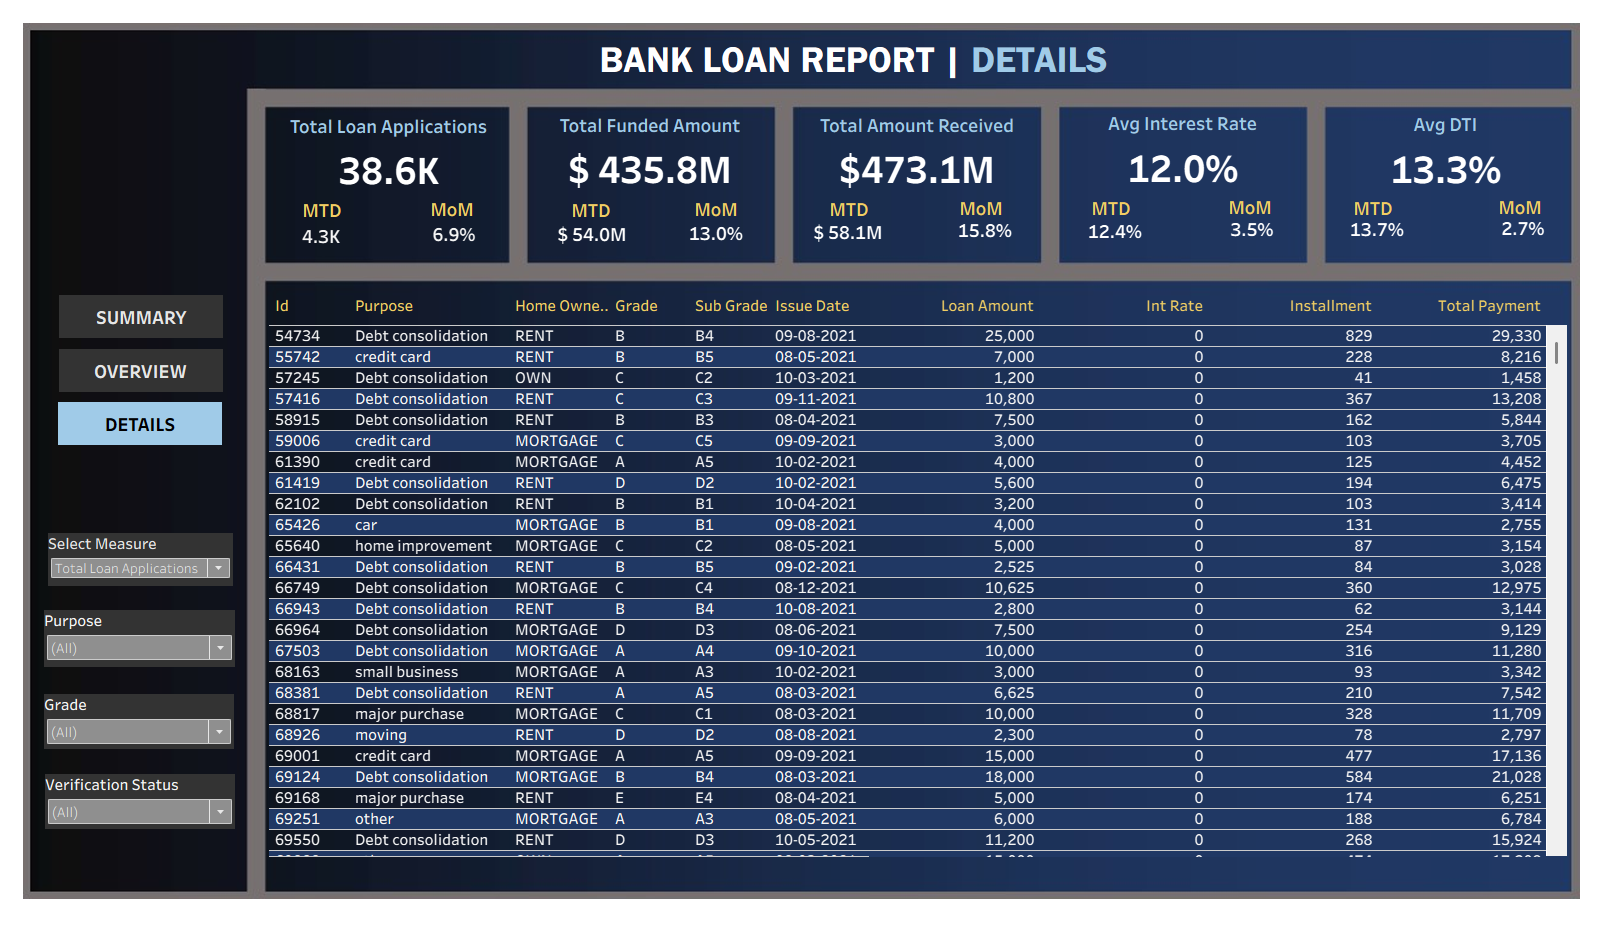

This screenshot's page, from the dashboard's own definition file:
{"tool":"tableau","page":{"name":"DETAILS","canvas":[1600,900],"ordinal":0},"visuals":[{"type":"image","param":"C:/Users/Ashutosh patil/Downloads/Tableau Background 3.jpg","box":[8,8,1584,884]},{"type":"text","box":[571,22,561,52]},{"type":"image","param":"C:/Users/ASHUTO~1/AppData/Local/Temp/TableauTemp/1ljy3j515t14ks12ctpar1f0utq3/Sh","box":[52,78,170,171]},{"type":"worksheet","title":"Avg Interest Rate","mark":"Automatic","box":[1058,95,245,81]},{"type":"worksheet","title":"Avg DTI","mark":"Automatic","box":[1321,96,245,82]},{"type":"worksheet","title":"Total Funded Amount","mark":"Automatic","box":[525,97,246,80]},{"type":"worksheet","title":"Total Amount Received","mark":"Automatic","box":[792,97,246,80]},{"type":"worksheet","title":"Total Loan Applications","mark":"Automatic","box":[267,98,239,79]},{"type":"text","box":[1223,187,50,18]},{"type":"text","box":[1493,187,50,18]},{"type":"text","box":[954,188,50,18]},{"type":"text","box":[1084,188,50,18]},{"type":"text","box":[1346,188,50,18]},{"type":"text","box":[425,189,50,18]},{"type":"text","box":[689,189,50,18]},{"type":"text","box":[822,189,50,18]},{"type":"text","box":[295,190,50,18]},{"type":"text","box":[564,190,50,18]},{"type":"worksheet","title":"MoM Avg DTI","mark":"Automatic","box":[1493,197,56,39]},{"type":"worksheet","title":"MTD Total Amount Received","mark":"Automatic","box":[805,199,81,43]},{"type":"worksheet","title":"MoM Total Amount Received","mark":"Automatic","box":[947,200,72,38]},{"type":"worksheet","title":"MTD Avg DTI","mark":"Automatic","box":[1341,200,68,35]},{"type":"worksheet","title":"MoM Avg Interest Rate","mark":"Automatic","box":[1215,201,69,34]},{"type":"worksheet","title":"MTD Total Funded Amount","mark":"Automatic","box":[545,202,90,42]},{"type":"worksheet","title":"MoM Total Fubded Amount","mark":"Automatic","box":[674,202,79,40]},{"type":"worksheet","title":"MTD Avg Interest Rate","mark":"Automatic","box":[1073,202,79,36]},{"type":"worksheet","title":"MoM Total Loan Applications","mark":"Automatic","box":[422,205,60,36]},{"type":"worksheet","title":"MTD Total Loan Applications","mark":"Automatic","box":[293,206,52,38]},{"type":"worksheet","title":"Details Tab","mark":"Automatic","rows":["id","purpose","home_ownership","grade","sub_grade","issue_date"],"box":[267,274,1298,572]},{"type":"dashboard-object","box":[57,284,164,43]},{"type":"dashboard-object","box":[57,338,164,43]},{"type":"dashboard-object","box":[56,391,164,43]},{"type":"parameter","param":"[Parameters].[Parameter 0288399514267680]","box":[46,522,185,53]},{"type":"filter","title":"Avg DTI","param":"[federated.1rtcsyt0h957pv0znsryh1tsff6r].[none:purpose:nk]","box":[42,599,191,57]},{"type":"filter","title":"Avg DTI","param":"[federated.1rtcsyt0h957pv0znsryh1tsff6r].[none:grade:nk]","box":[42,683,190,55]},{"type":"filter","title":"Avg DTI","param":"[federated.1rtcsyt0h957pv0znsryh1tsff6r].[none:verification_status:nk]","box":[43,763,190,55]}]}

Visuals, with their boxes on the page's 1600x900 design canvas (x1, y1, x2, y2). These are canvas units, not pixel positions in the 1597x930 screenshot, which may show the page scaled, cropped or inside an application window:
image: {"x1": 8, "y1": 8, "x2": 1592, "y2": 892}
text: {"x1": 571, "y1": 22, "x2": 1132, "y2": 74}
image: {"x1": 52, "y1": 78, "x2": 222, "y2": 249}
"Avg Interest Rate" worksheet: {"x1": 1058, "y1": 95, "x2": 1303, "y2": 176}
"Avg DTI" worksheet: {"x1": 1321, "y1": 96, "x2": 1566, "y2": 178}
"Total Funded Amount" worksheet: {"x1": 525, "y1": 97, "x2": 771, "y2": 177}
"Total Amount Received" worksheet: {"x1": 792, "y1": 97, "x2": 1038, "y2": 177}
"Total Loan Applications" worksheet: {"x1": 267, "y1": 98, "x2": 506, "y2": 177}
text: {"x1": 1223, "y1": 187, "x2": 1273, "y2": 205}
text: {"x1": 1493, "y1": 187, "x2": 1543, "y2": 205}
text: {"x1": 954, "y1": 188, "x2": 1004, "y2": 206}
text: {"x1": 1084, "y1": 188, "x2": 1134, "y2": 206}
text: {"x1": 1346, "y1": 188, "x2": 1396, "y2": 206}
text: {"x1": 425, "y1": 189, "x2": 475, "y2": 207}
text: {"x1": 689, "y1": 189, "x2": 739, "y2": 207}
text: {"x1": 822, "y1": 189, "x2": 872, "y2": 207}
text: {"x1": 295, "y1": 190, "x2": 345, "y2": 208}
text: {"x1": 564, "y1": 190, "x2": 614, "y2": 208}
"MoM Avg DTI" worksheet: {"x1": 1493, "y1": 197, "x2": 1549, "y2": 236}
"MTD Total Amount Received" worksheet: {"x1": 805, "y1": 199, "x2": 886, "y2": 242}
"MoM Total Amount Received" worksheet: {"x1": 947, "y1": 200, "x2": 1019, "y2": 238}
"MTD Avg DTI" worksheet: {"x1": 1341, "y1": 200, "x2": 1409, "y2": 235}
"MoM Avg Interest Rate" worksheet: {"x1": 1215, "y1": 201, "x2": 1284, "y2": 235}
"MTD Total Funded Amount" worksheet: {"x1": 545, "y1": 202, "x2": 635, "y2": 244}
"MoM Total Fubded Amount" worksheet: {"x1": 674, "y1": 202, "x2": 753, "y2": 242}
"MTD Avg Interest Rate" worksheet: {"x1": 1073, "y1": 202, "x2": 1152, "y2": 238}
"MoM Total Loan Applications" worksheet: {"x1": 422, "y1": 205, "x2": 482, "y2": 241}
"MTD Total Loan Applications" worksheet: {"x1": 293, "y1": 206, "x2": 345, "y2": 244}
"Details Tab" worksheet: {"x1": 267, "y1": 274, "x2": 1565, "y2": 846}
dashboard-object: {"x1": 57, "y1": 284, "x2": 221, "y2": 327}
dashboard-object: {"x1": 57, "y1": 338, "x2": 221, "y2": 381}
dashboard-object: {"x1": 56, "y1": 391, "x2": 220, "y2": 434}
parameter: {"x1": 46, "y1": 522, "x2": 231, "y2": 575}
"Avg DTI" filter: {"x1": 42, "y1": 599, "x2": 233, "y2": 656}
"Avg DTI" filter: {"x1": 42, "y1": 683, "x2": 232, "y2": 738}
"Avg DTI" filter: {"x1": 43, "y1": 763, "x2": 233, "y2": 818}
